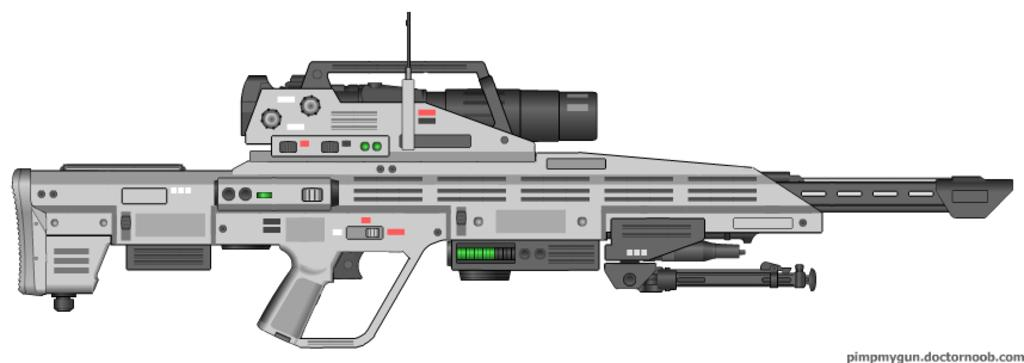Rifle: (25, 70, 1024, 334)
